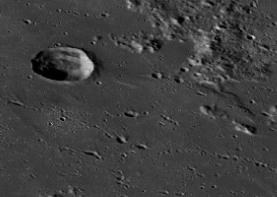crater: (11, 31, 118, 115)
